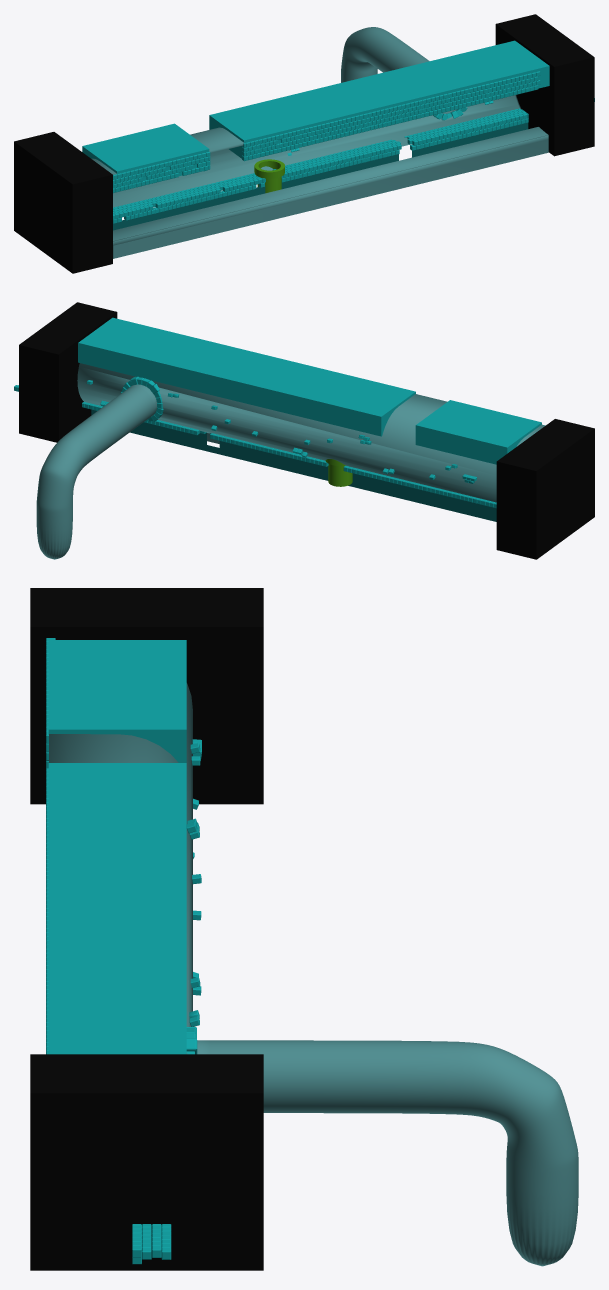
Rendered from Tunnels.fbx.
3 views of the same model, one above another, from view 1: azimuth 30°, elevation 25°; view 2: azimuth 150°, elevation 25°; view 3: azimuth 270°, elevation 25° (orthographic). The views are drawn at different scales.
Parts seen in each view (by area): view 1: Cylinder, Cube.988, Cube.661, Cube.660, Cube.987, Plane, Cylinder.002; view 2: Cylinder, Cube.988, Cube.661, Cube.660, Cube.987, Plane, Cylinder.002; view 3: Cube.660, Cube.988, Cylinder, Cube.661, Cube.987.
Part boxes in pixels (<box>): Cylinder: <box>91,27,548,258</box>; Cube.988: <box>209,40,549,158</box>; Cube.661: <box>14,132,112,273</box>; Cube.660: <box>495,14,594,156</box>; Cube.987: <box>82,123,209,180</box>; Plane: <box>113,123,528,230</box>; Cylinder.002: <box>254,159,284,193</box>; Cylinder: <box>36,363,544,559</box>; Cube.988: <box>78,317,415,436</box>; Cube.661: <box>496,419,594,559</box>; Cube.660: <box>19,302,117,442</box>; Cube.987: <box>415,400,541,464</box>; Plane: <box>91,409,496,521</box>; Cylinder.002: <box>325,459,352,486</box>; Cube.660: <box>30,1054,263,1270</box>; Cube.988: <box>48,763,186,1054</box>; Cylinder: <box>49,683,578,1266</box>; Cube.661: <box>30,588,263,804</box>; Cube.987: <box>48,640,186,762</box>.
Size of the model in its own units: 5779 by 1396 by 2514.
